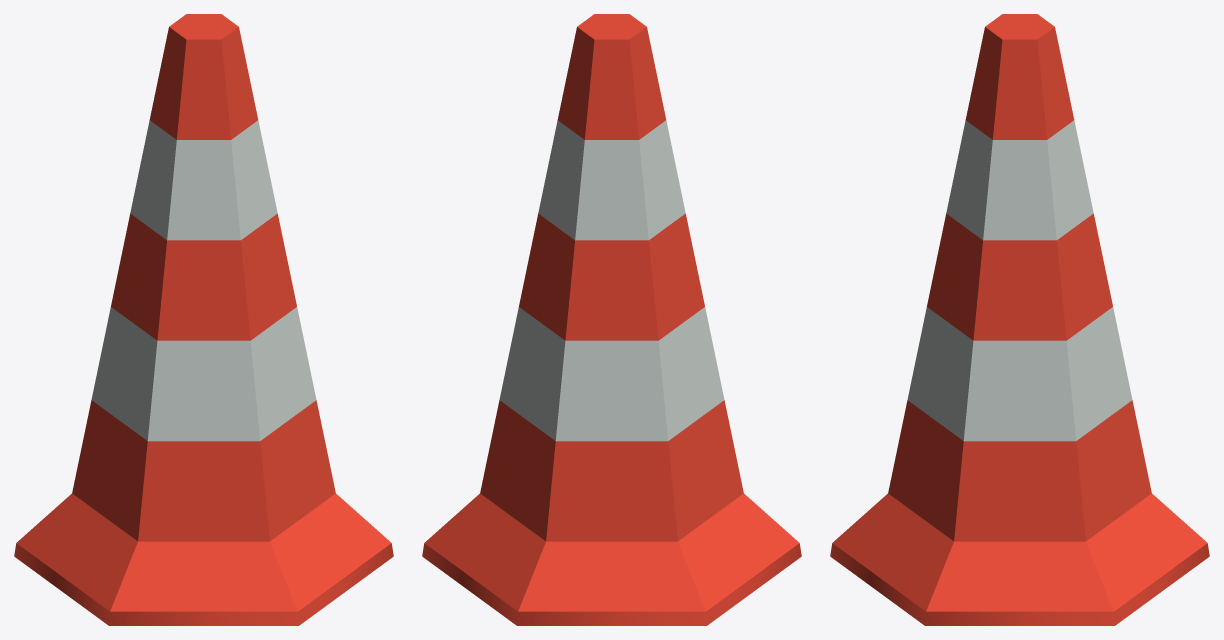
3 renders of one model, left to right at view 1: azimuth 30°, elevation 25°; view 2: azimuth 150°, elevation 25°; view 3: azimuth 270°, elevation 25°, orthographic.
Parts seen in each view (by area): view 1: SM_Cone_A1; view 2: SM_Cone_A1; view 3: SM_Cone_A1.
Boxes of the visible parts, bbox=[...] form: SM_Cone_A1: bbox=[14, 14, 393, 625]; SM_Cone_A1: bbox=[422, 14, 801, 625]; SM_Cone_A1: bbox=[830, 14, 1209, 625].
Bounding box in the file's own units: 27.7 × 49.25 × 31.99.
